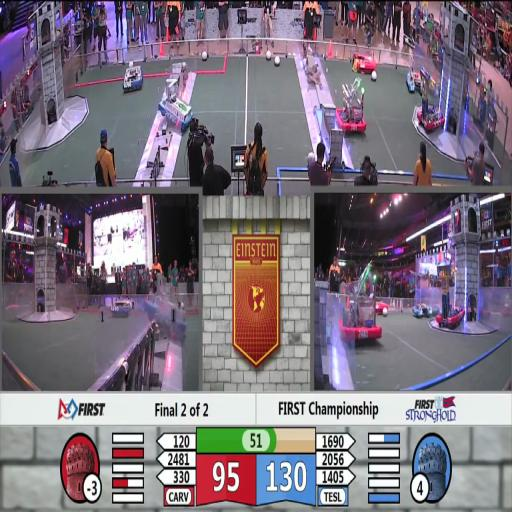robot: (338, 278, 381, 340), (144, 289, 188, 338), (416, 65, 446, 133), (158, 78, 194, 132), (335, 82, 367, 133), (437, 288, 465, 326), (351, 47, 376, 75), (120, 62, 144, 89), (406, 67, 428, 93), (106, 296, 136, 314), (413, 301, 435, 319), (371, 298, 387, 314)
